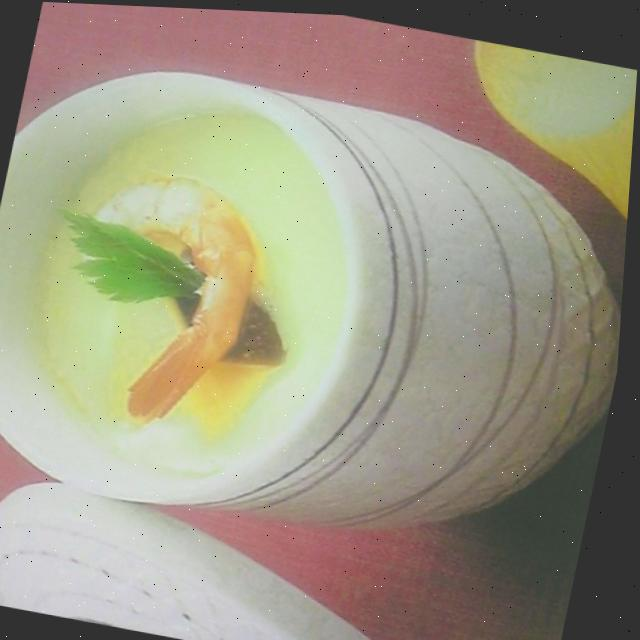鸡蛋料理: (0, 48, 557, 552)
